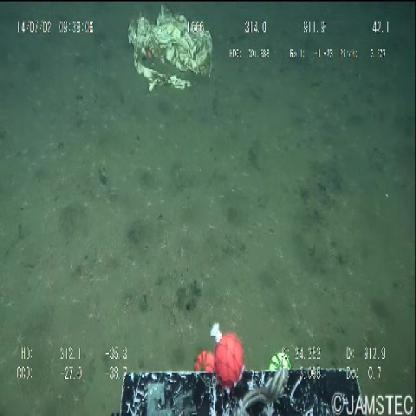Rác: (126, 3, 214, 94)
